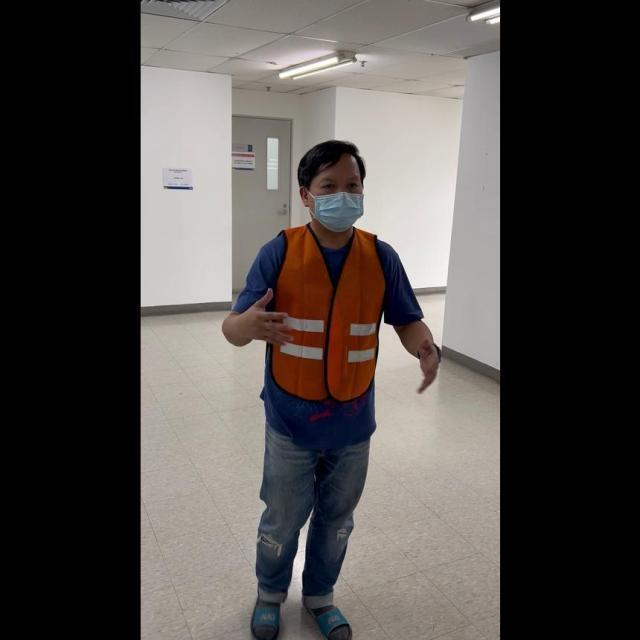bare_hand: (243, 291, 296, 346), (412, 330, 442, 394)
